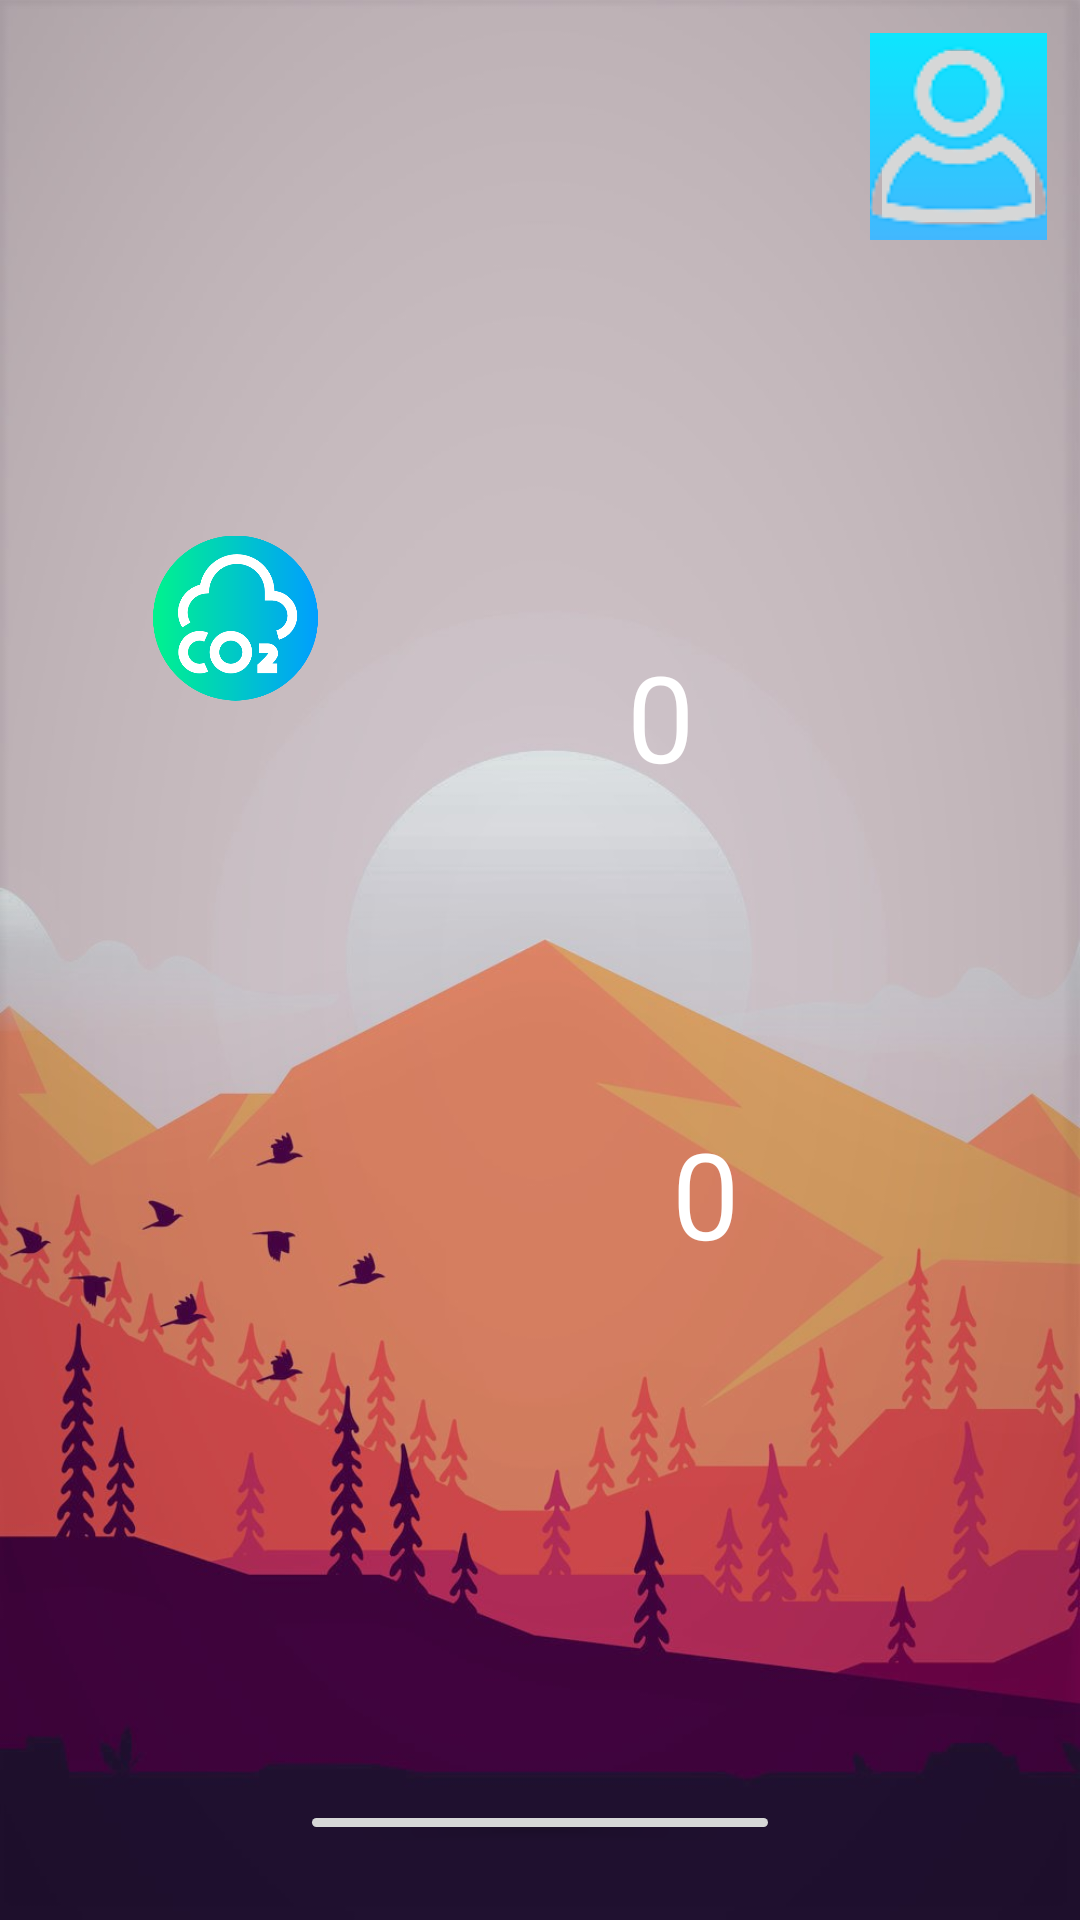

Icons on this 1080x1920 Android screen, each with the point to tap as (x,y):
user: (958,136)
